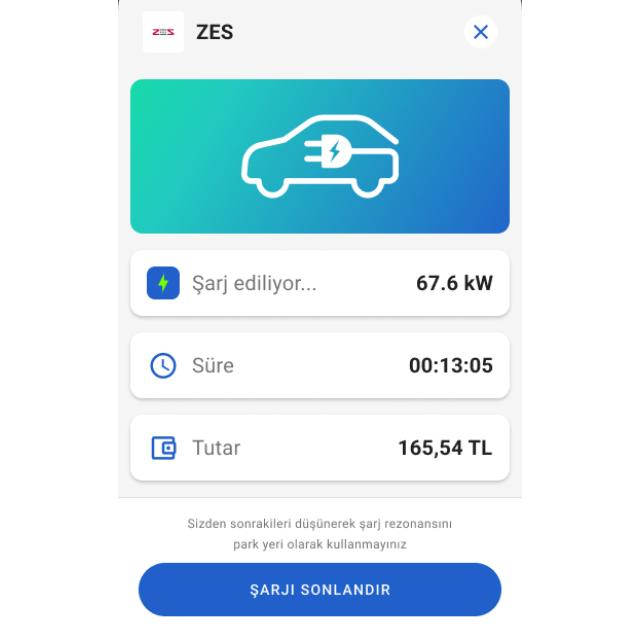QLabel: (186, 515, 456, 533), (190, 272, 316, 296), (245, 582, 392, 600), (232, 539, 410, 553), (396, 438, 494, 456), (406, 356, 496, 374), (414, 274, 496, 292), (191, 440, 243, 456), (190, 356, 236, 374), (194, 22, 232, 40)
VBtn: (138, 562, 502, 618)
VCard: (128, 414, 512, 482), (130, 332, 512, 400), (130, 251, 510, 317)
VFooter: (118, 498, 522, 640)
VIcon: (466, 16, 496, 48)
VImg: (130, 79, 510, 235), (142, 12, 184, 50), (147, 266, 179, 300), (148, 351, 178, 379), (148, 434, 178, 462)
